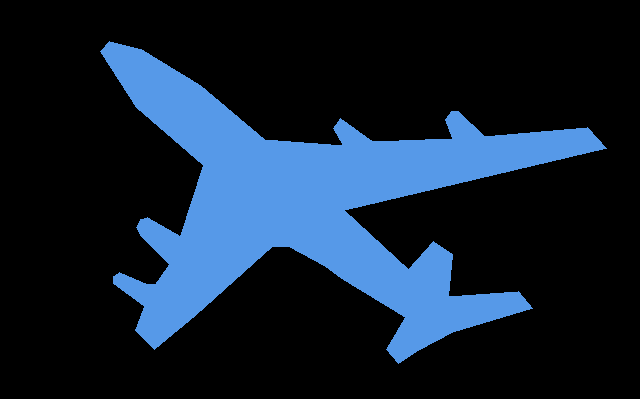Airplane: (100, 41, 607, 364)
